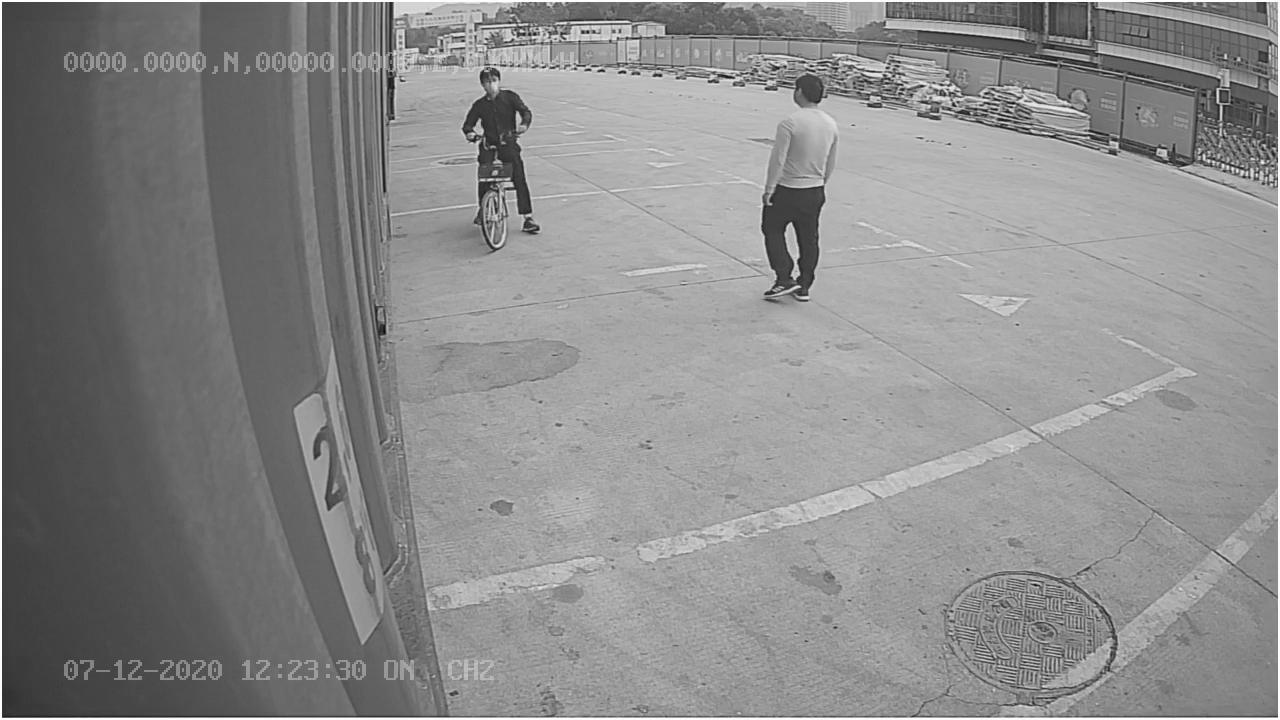person: (751, 71, 840, 306)
